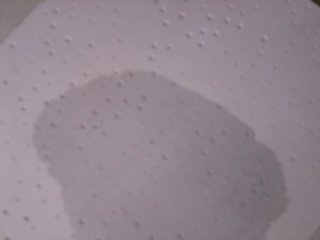Water_detected: (58, 89, 231, 240)
